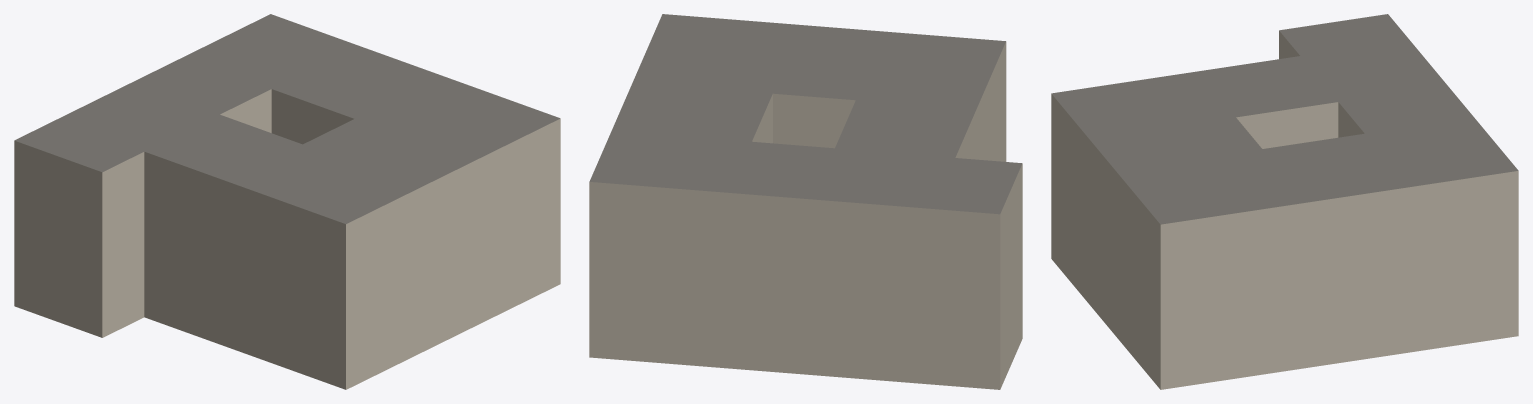
The picture shows the model from 3 angles, left to right: view 1: azimuth 30°, elevation 25°; view 2: azimuth 150°, elevation 25°; view 3: azimuth 270°, elevation 25°; orthographic projection. The views are drawn at different scales.
Parts seen in each view (by area): view 1: HP-r11759264; view 2: HP-r11759264; view 3: HP-r11759264.
Part boxes in pixels (x1=…): HP-r11759264: x1=14, y1=14, x2=560, y2=389; HP-r11759264: x1=589, y1=14, x2=1022, y2=389; HP-r11759264: x1=1051, y1=14, x2=1518, y2=389.
Size of the model in its own units: 49.18 by 18 by 46.12.
